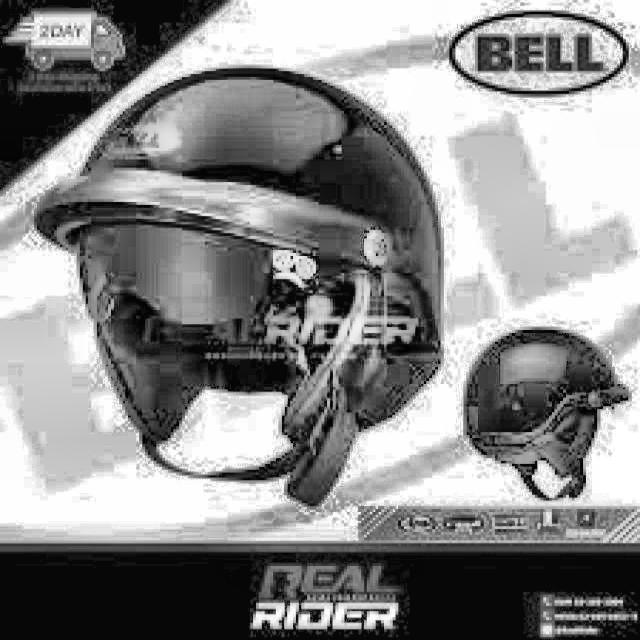Helmet: (45, 70, 444, 505), (459, 320, 630, 505)
